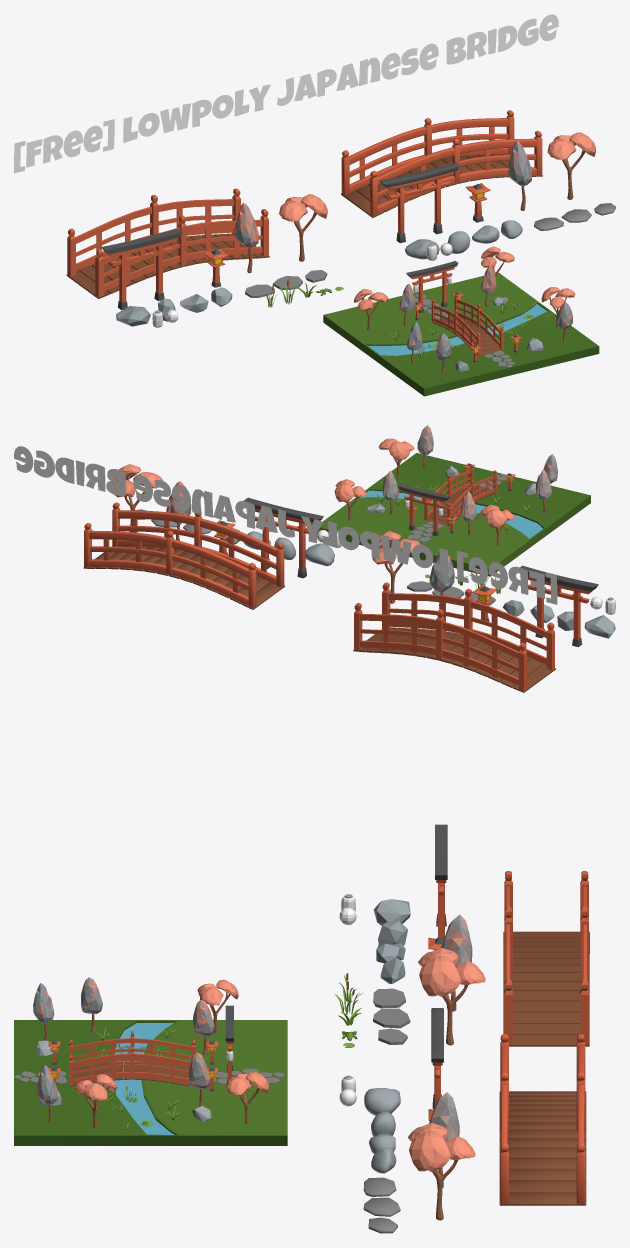
File: free_lowpoly_japanese_bridge.glb
3 views of the same model, one above another, from view 1: azimuth 30°, elevation 25°; view 2: azimuth 150°, elevation 25°; view 3: azimuth 270°, elevation 25° (orthographic). The views are drawn at different scales.
Parts seen in each view (by area): view 1: Cube.002, Text, Cube.004, Cube.031, Cube.003, Cylinder.002, Cylinder.005, Lowpolytree_5_green.002, Lowpolytree_5_green.001, Plane.007, Cylinder.001, Lowpolytree_02_green.001 (+3 smaller); view 2: Cube.002, Cube.031, Cube.004, Text, Cube.003, Cylinder.002, Cylinder.005, Cylinder.001, Plane.007, Lowpolytree_5_green.002, Lowpolytree_5_green.001, Lowpolytree_02_green.002 (+9 smaller); view 3: Cube.002, Cube.004, Cube.031, Cube.003, Lowpolytree_5_green.001, Lowpolytree_5_green.002, Plane.007, Cylinder.002, Lowpolytree_02_green.002, Cylinder.005, Lowpolytree_02_green.001, Lowpolytree_5_green.006 (+7 smaller).
Boxes of the visible parts, bbox=[...] form: Cube.002: bbox=[323, 272, 599, 396]; Text: bbox=[14, 14, 558, 173]; Cube.004: bbox=[341, 110, 542, 217]; Cube.031: bbox=[66, 188, 269, 298]; Cube.003: bbox=[431, 294, 503, 355]; Cylinder.002: bbox=[101, 228, 182, 310]; Cylinder.005: bbox=[380, 162, 459, 243]; Lowpolytree_5_green.002: bbox=[547, 132, 595, 199]; Lowpolytree_5_green.001: bbox=[279, 194, 327, 261]; Plane.007: bbox=[368, 304, 546, 355]; Cylinder.001: bbox=[406, 261, 458, 313]; Lowpolytree_02_green.001: bbox=[508, 140, 531, 210]; Cube.002: bbox=[317, 453, 590, 576]; Cube.031: bbox=[353, 582, 555, 692]; Cube.004: bbox=[83, 502, 284, 609]; Text: bbox=[14, 446, 557, 604]; Cube.003: bbox=[424, 464, 496, 525]; Cylinder.002: bbox=[520, 565, 598, 647]; Cylinder.005: bbox=[244, 497, 323, 578]; Cylinder.001: bbox=[398, 484, 450, 536]; Plane.007: bbox=[360, 490, 542, 538]; Lowpolytree_5_green.002: bbox=[114, 464, 163, 532]; Lowpolytree_5_green.001: bbox=[372, 531, 422, 603]; Lowpolytree_02_green.002: bbox=[429, 553, 454, 609]; Cube.002: bbox=[14, 1020, 287, 1145]; Cube.004: bbox=[499, 1034, 586, 1205]; Cube.031: bbox=[503, 871, 589, 1046]; Cube.003: bbox=[69, 1031, 195, 1086]; Lowpolytree_5_green.001: bbox=[418, 948, 485, 1045]; Lowpolytree_5_green.002: bbox=[407, 1123, 475, 1220]; Plane.007: bbox=[114, 1023, 174, 1134]; Cylinder.002: bbox=[435, 824, 447, 937]; Lowpolytree_02_green.002: bbox=[441, 914, 472, 1011]; Cylinder.005: bbox=[431, 1008, 443, 1108]; Lowpolytree_02_green.001: bbox=[429, 1092, 459, 1188]; Lowpolytree_5_green.006: bbox=[74, 1074, 117, 1128].
Size of the model in its own units: 72.94 by 17.46 by 51.5.
Materials: 2 (1 with a texture image).
